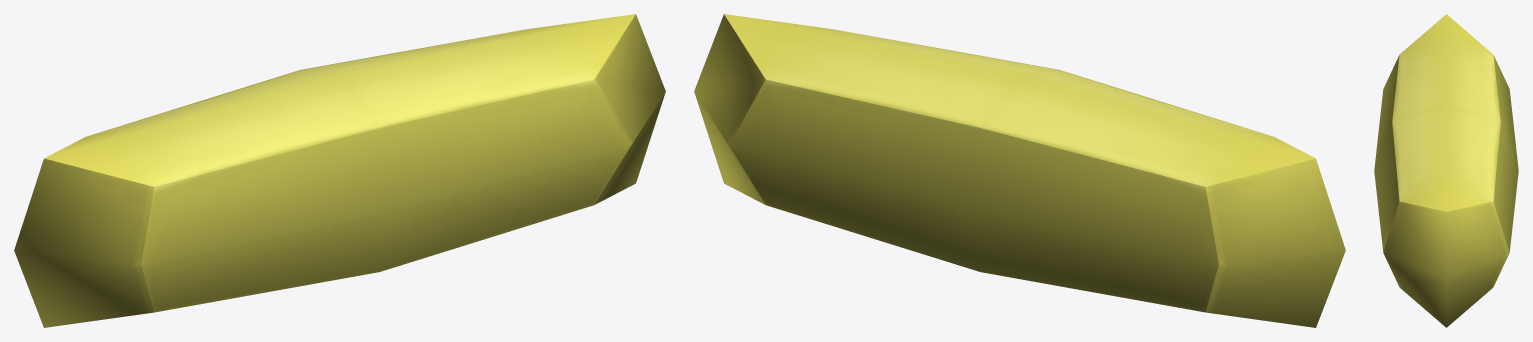
Rendered from jianhao.FBX.
The picture shows the model from 3 angles, left to right: view 1: azimuth 30°, elevation 25°; view 2: azimuth 150°, elevation 25°; view 3: azimuth 270°, elevation 25°; orthographic projection. The views are drawn at different scales.
Parts seen in each view (by area): view 1: Object16; view 2: Object16; view 3: Object16.
Boxes of the visible parts, box(x1,y1,x2,y2) form: Object16: box(14, 14, 665, 327); Object16: box(694, 14, 1345, 327); Object16: box(1374, 14, 1518, 327).
Size of the model in its own units: 16.14 by 4.53 by 4.55.
1 material, 1 textured.
